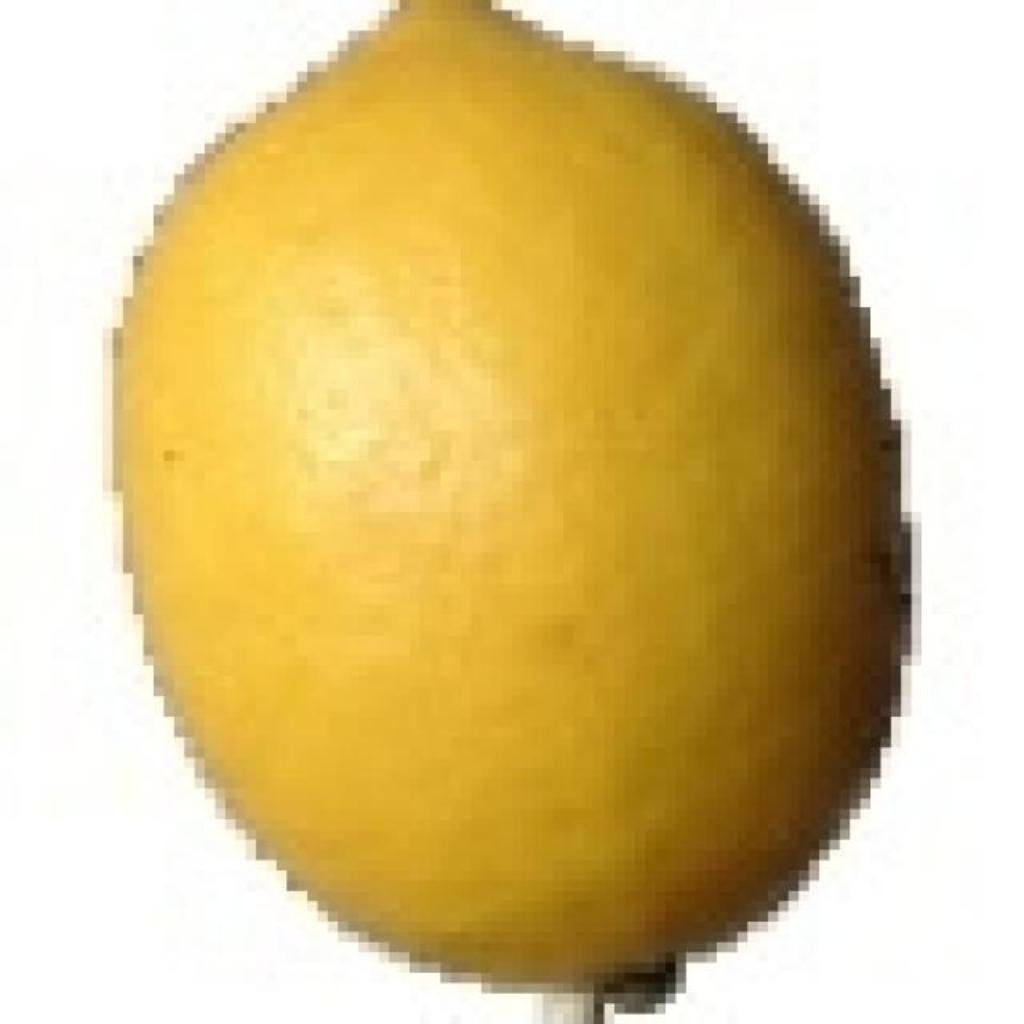lemon: (116, 0, 898, 999)
